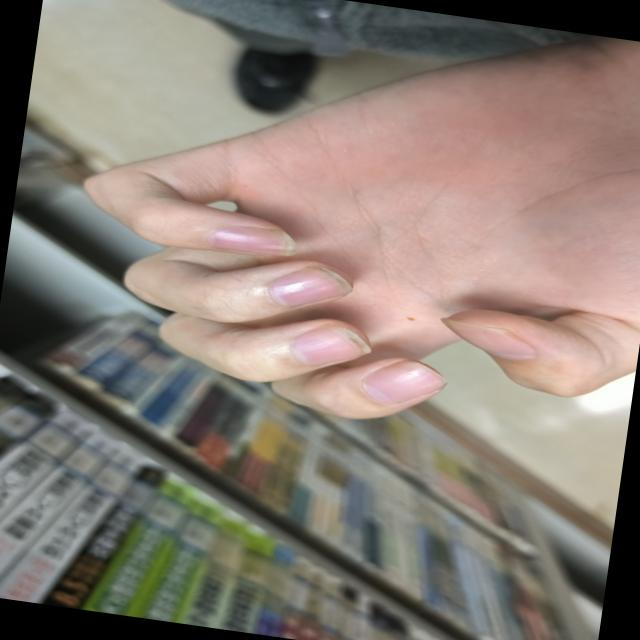Nail: (439, 319, 535, 360), (362, 360, 445, 405), (267, 266, 351, 308), (289, 325, 369, 367), (207, 226, 295, 257)
